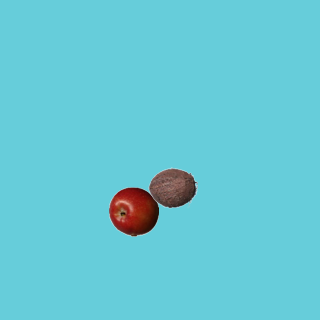Apple Braeburn: (108, 186, 158, 236)
Cocos: (147, 162, 197, 212)
